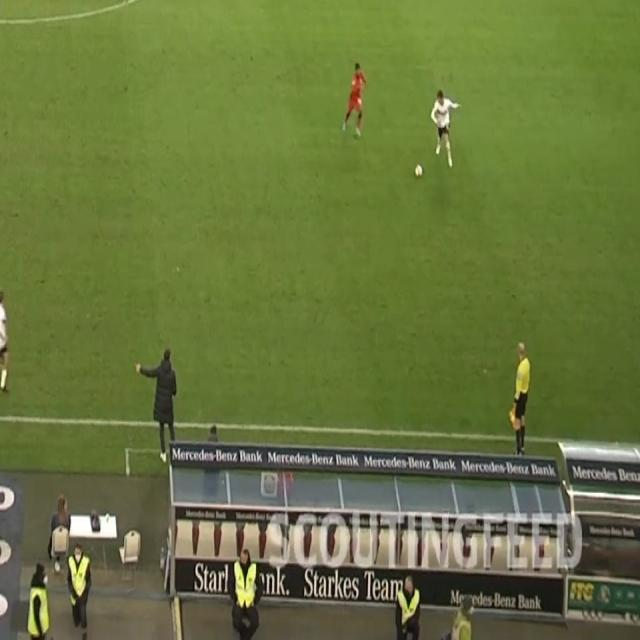ball: (414, 162, 424, 179)
